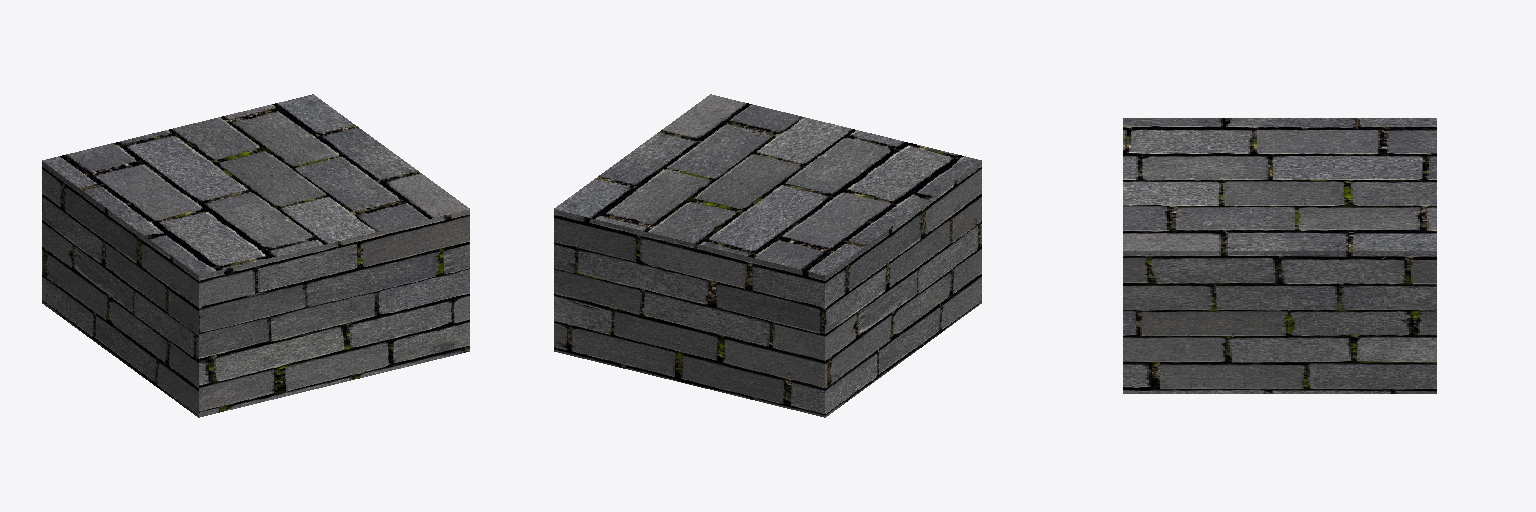
3 views of the same model, side by side, from view 1: azimuth 30°, elevation 25°; view 2: azimuth 150°, elevation 25°; view 3: azimuth 270°, elevation 25° (orthographic).
Visible parts, largest first — view 1: 立方体; view 2: 立方体; view 3: 立方体.
Boxes of the visible parts, x1=… form: 立方体: x1=42, y1=94, x2=469, y2=417; 立方体: x1=554, y1=94, x2=981, y2=417; 立方体: x1=1123, y1=118, x2=1436, y2=393.
Size of the model in its own units: 2 by 1 by 2.
Materials: 1 (1 with a texture image).